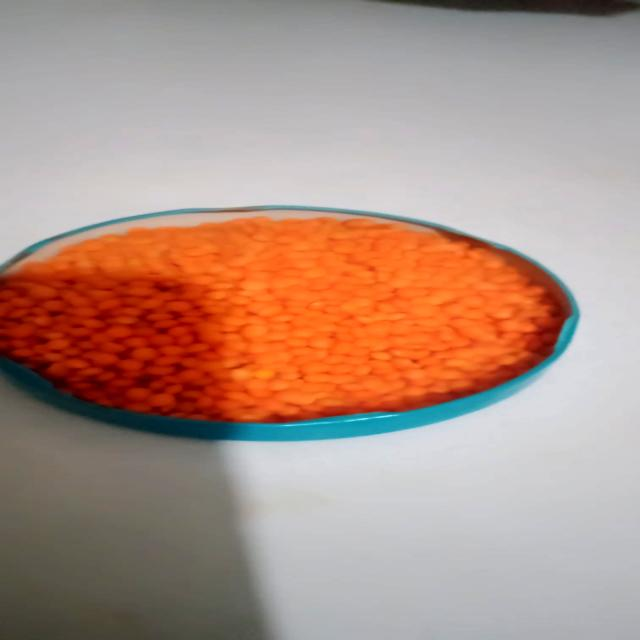red lentils: (0, 216, 538, 425)
